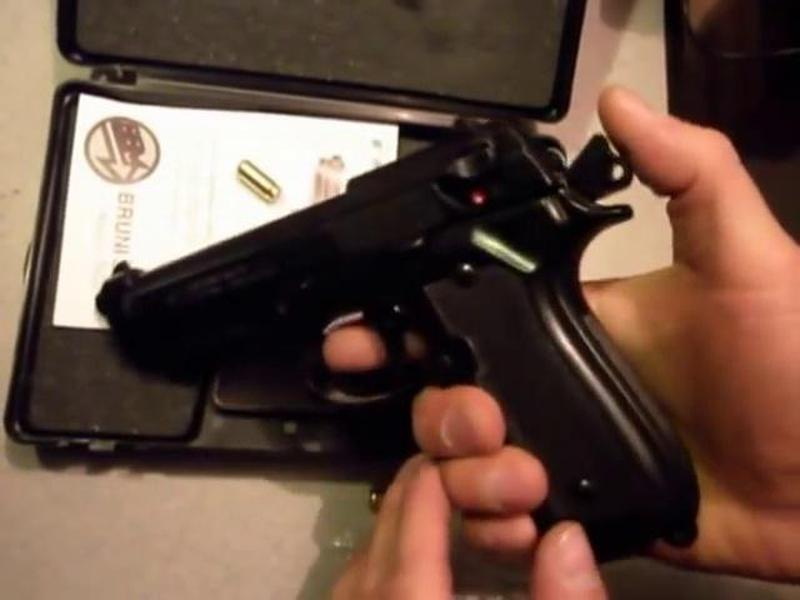Pistola: (91, 99, 734, 577)
